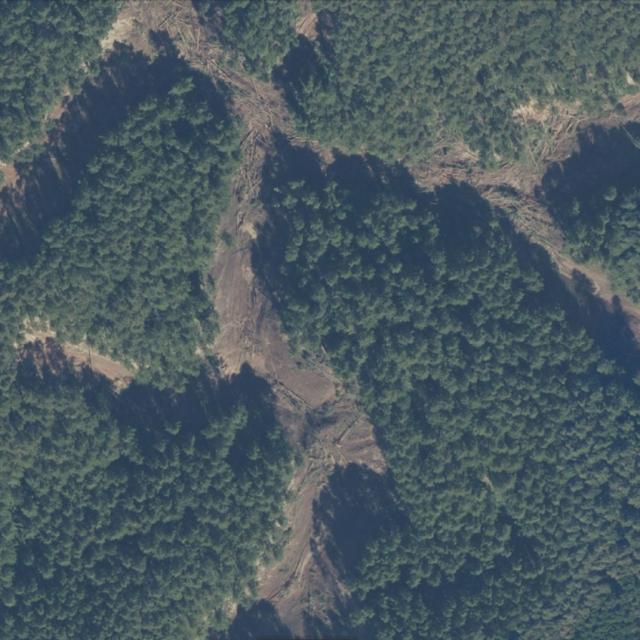landslide: (212, 125, 393, 640), (121, 1, 205, 55)
